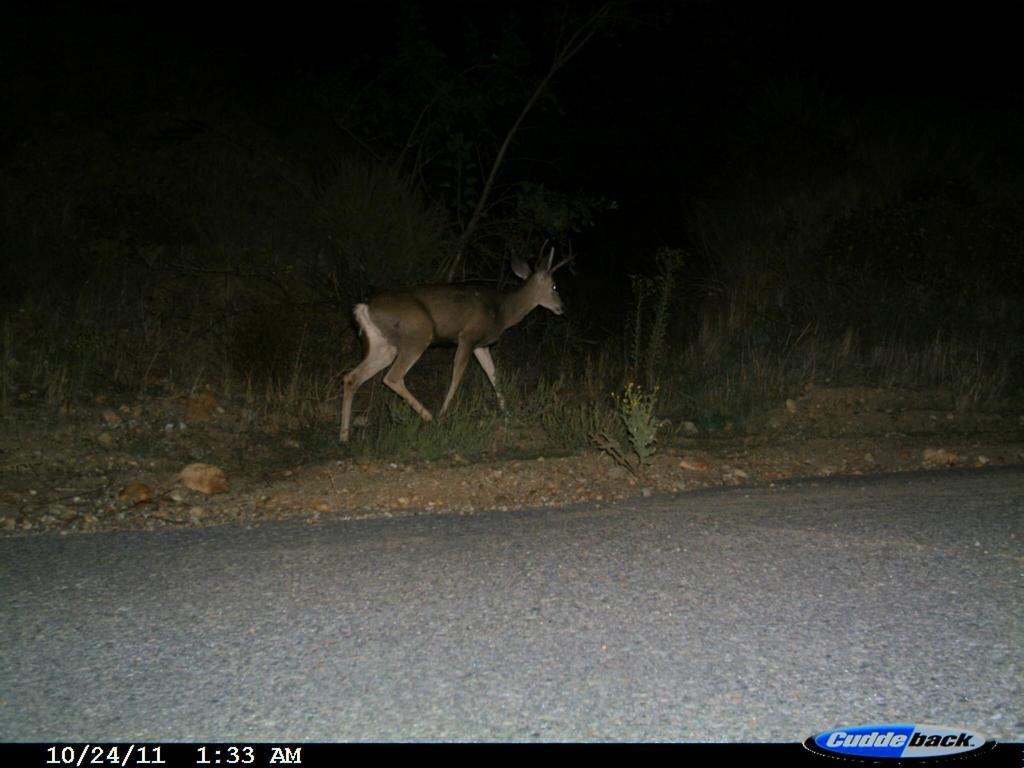deer: (322, 232, 584, 455)
